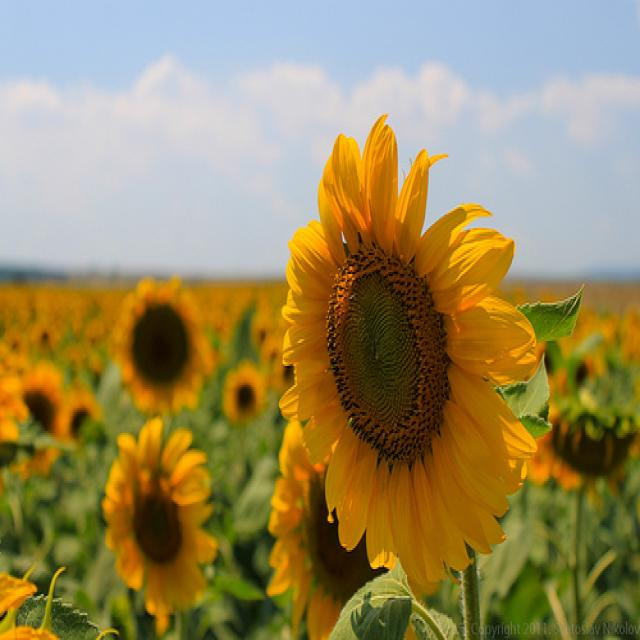sunflower: (275, 90, 551, 600), (100, 414, 220, 607), (98, 268, 219, 418), (537, 379, 637, 510), (218, 358, 266, 431)
